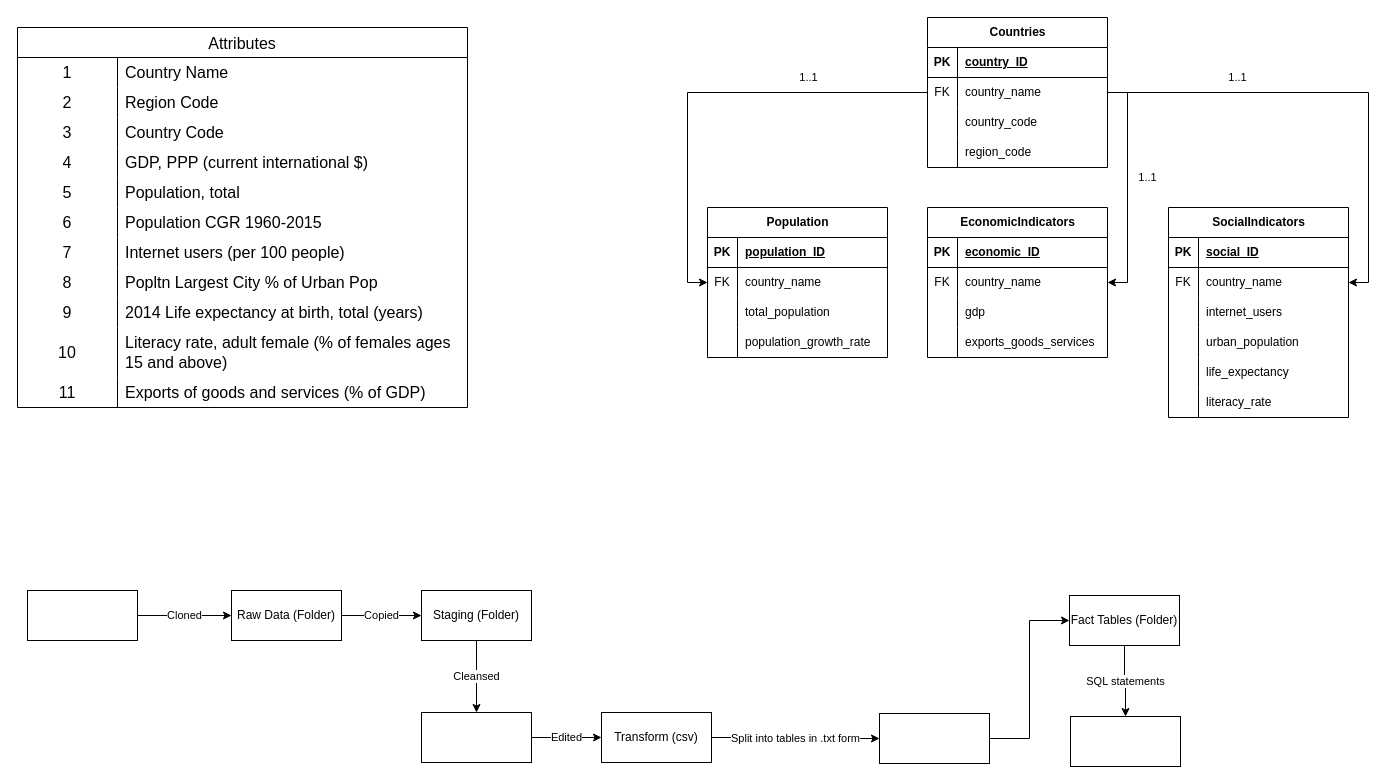
This 1394x784 diagram has some shape labels left out. The shapes that lost their labels are listed below. From the top down, each one's centre as x and y in pixels, then its label:
At point (82, 615): "Raw Data".
At point (476, 737): "Extract (csv)".
At point (934, 738): "Load (txt)".
At point (1125, 741): "Database (sql)".
